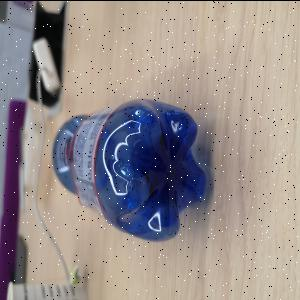Plastic-bottle: (52, 97, 210, 245)
